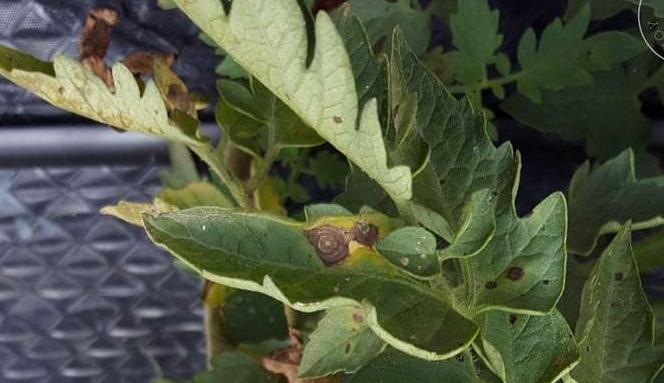Tomato Early blight leaf: (103, 195, 476, 365)
Tomato leaf: (510, 8, 652, 113), (553, 142, 664, 263)
